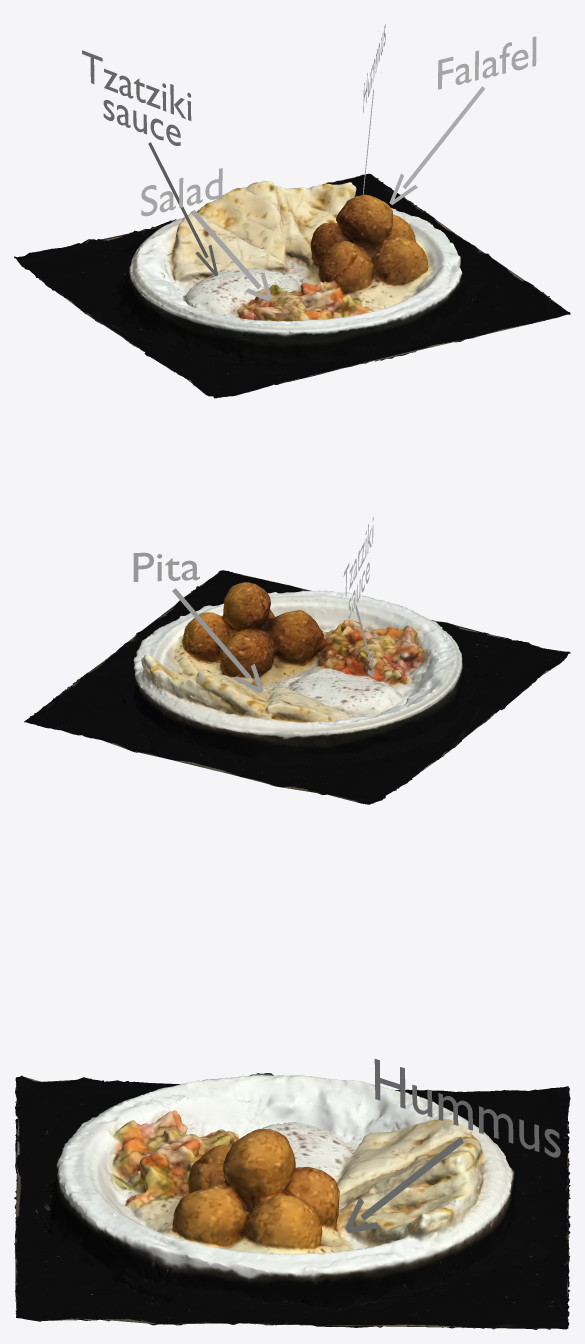
The model's file is Falafel_scaled_text.glb.
3 renders of one model, top to bottom at view 1: azimuth 30°, elevation 25°; view 2: azimuth 150°, elevation 25°; view 3: azimuth 270°, elevation 25°, orthographic. The views are drawn at different scales.
Parts seen in each view (by area): view 1: Mesh_0_Part_0, Text.004, Text.006, Text, BezierCurve.002, BezierCurve, BezierCurve.001; view 2: Mesh_0_Part_0, Text.009, Text.004, BezierCurve.004; view 3: Mesh_0_Part_0, Text.001, BezierCurve.003.
Boxes of the visible parts, left/top/right/bottom form: Mesh_0_Part_0: left=14, top=173, right=570, bottom=398; Text.004: left=82, top=50, right=191, bottom=145; Text.006: left=438, top=36, right=536, bottom=89; Text: left=141, top=168, right=222, bottom=216; BezierCurve.002: left=402, top=86, right=484, bottom=188; BezierCurve: left=191, top=210, right=261, bottom=289; BezierCurve.001: left=148, top=142, right=208, bottom=257; Mesh_0_Part_0: left=24, top=570, right=570, bottom=804; Text.009: left=133, top=552, right=199, bottom=581; Text.004: left=343, top=516, right=373, bottom=619; BezierCurve.004: left=172, top=588, right=251, bottom=678; Mesh_0_Part_0: left=14, top=1073, right=570, bottom=1329; Text.001: left=374, top=1059, right=560, bottom=1157; BezierCurve.003: left=360, top=1137, right=463, bottom=1220.
Size of the model in its own units: 0.4061 by 0.2006 by 0.3377.
Materials: 16 (1 with a texture image).
